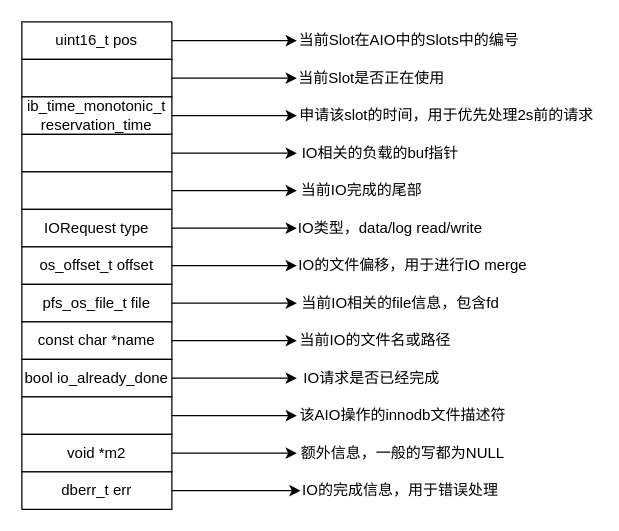
Image size: 619x531. Some labels were removed from this diagram. Here are the shapes that lost their labels. From the top down, the centre of each, then its label:
At pixel 96 77: "bool is_reserved".
At pixel 96 152: "byte *buf".
At pixel 96 190: "byte *ptr".
At pixel 96 415: "fil_node_t *m1".
